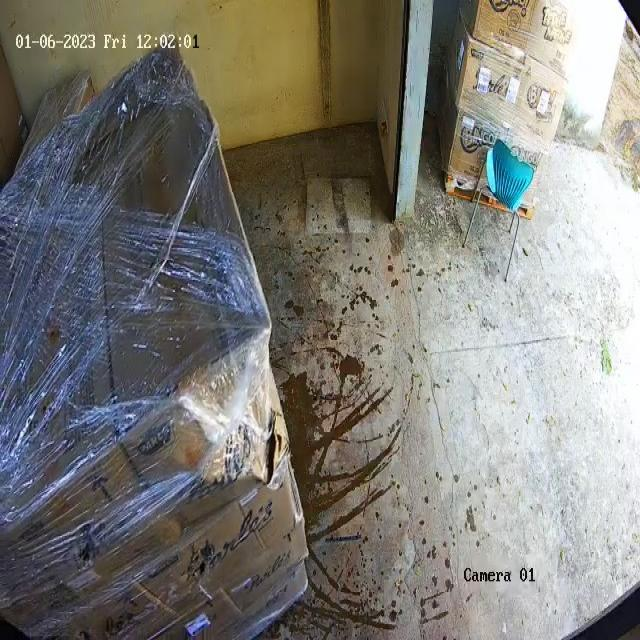leakage: (249, 379, 306, 523)
